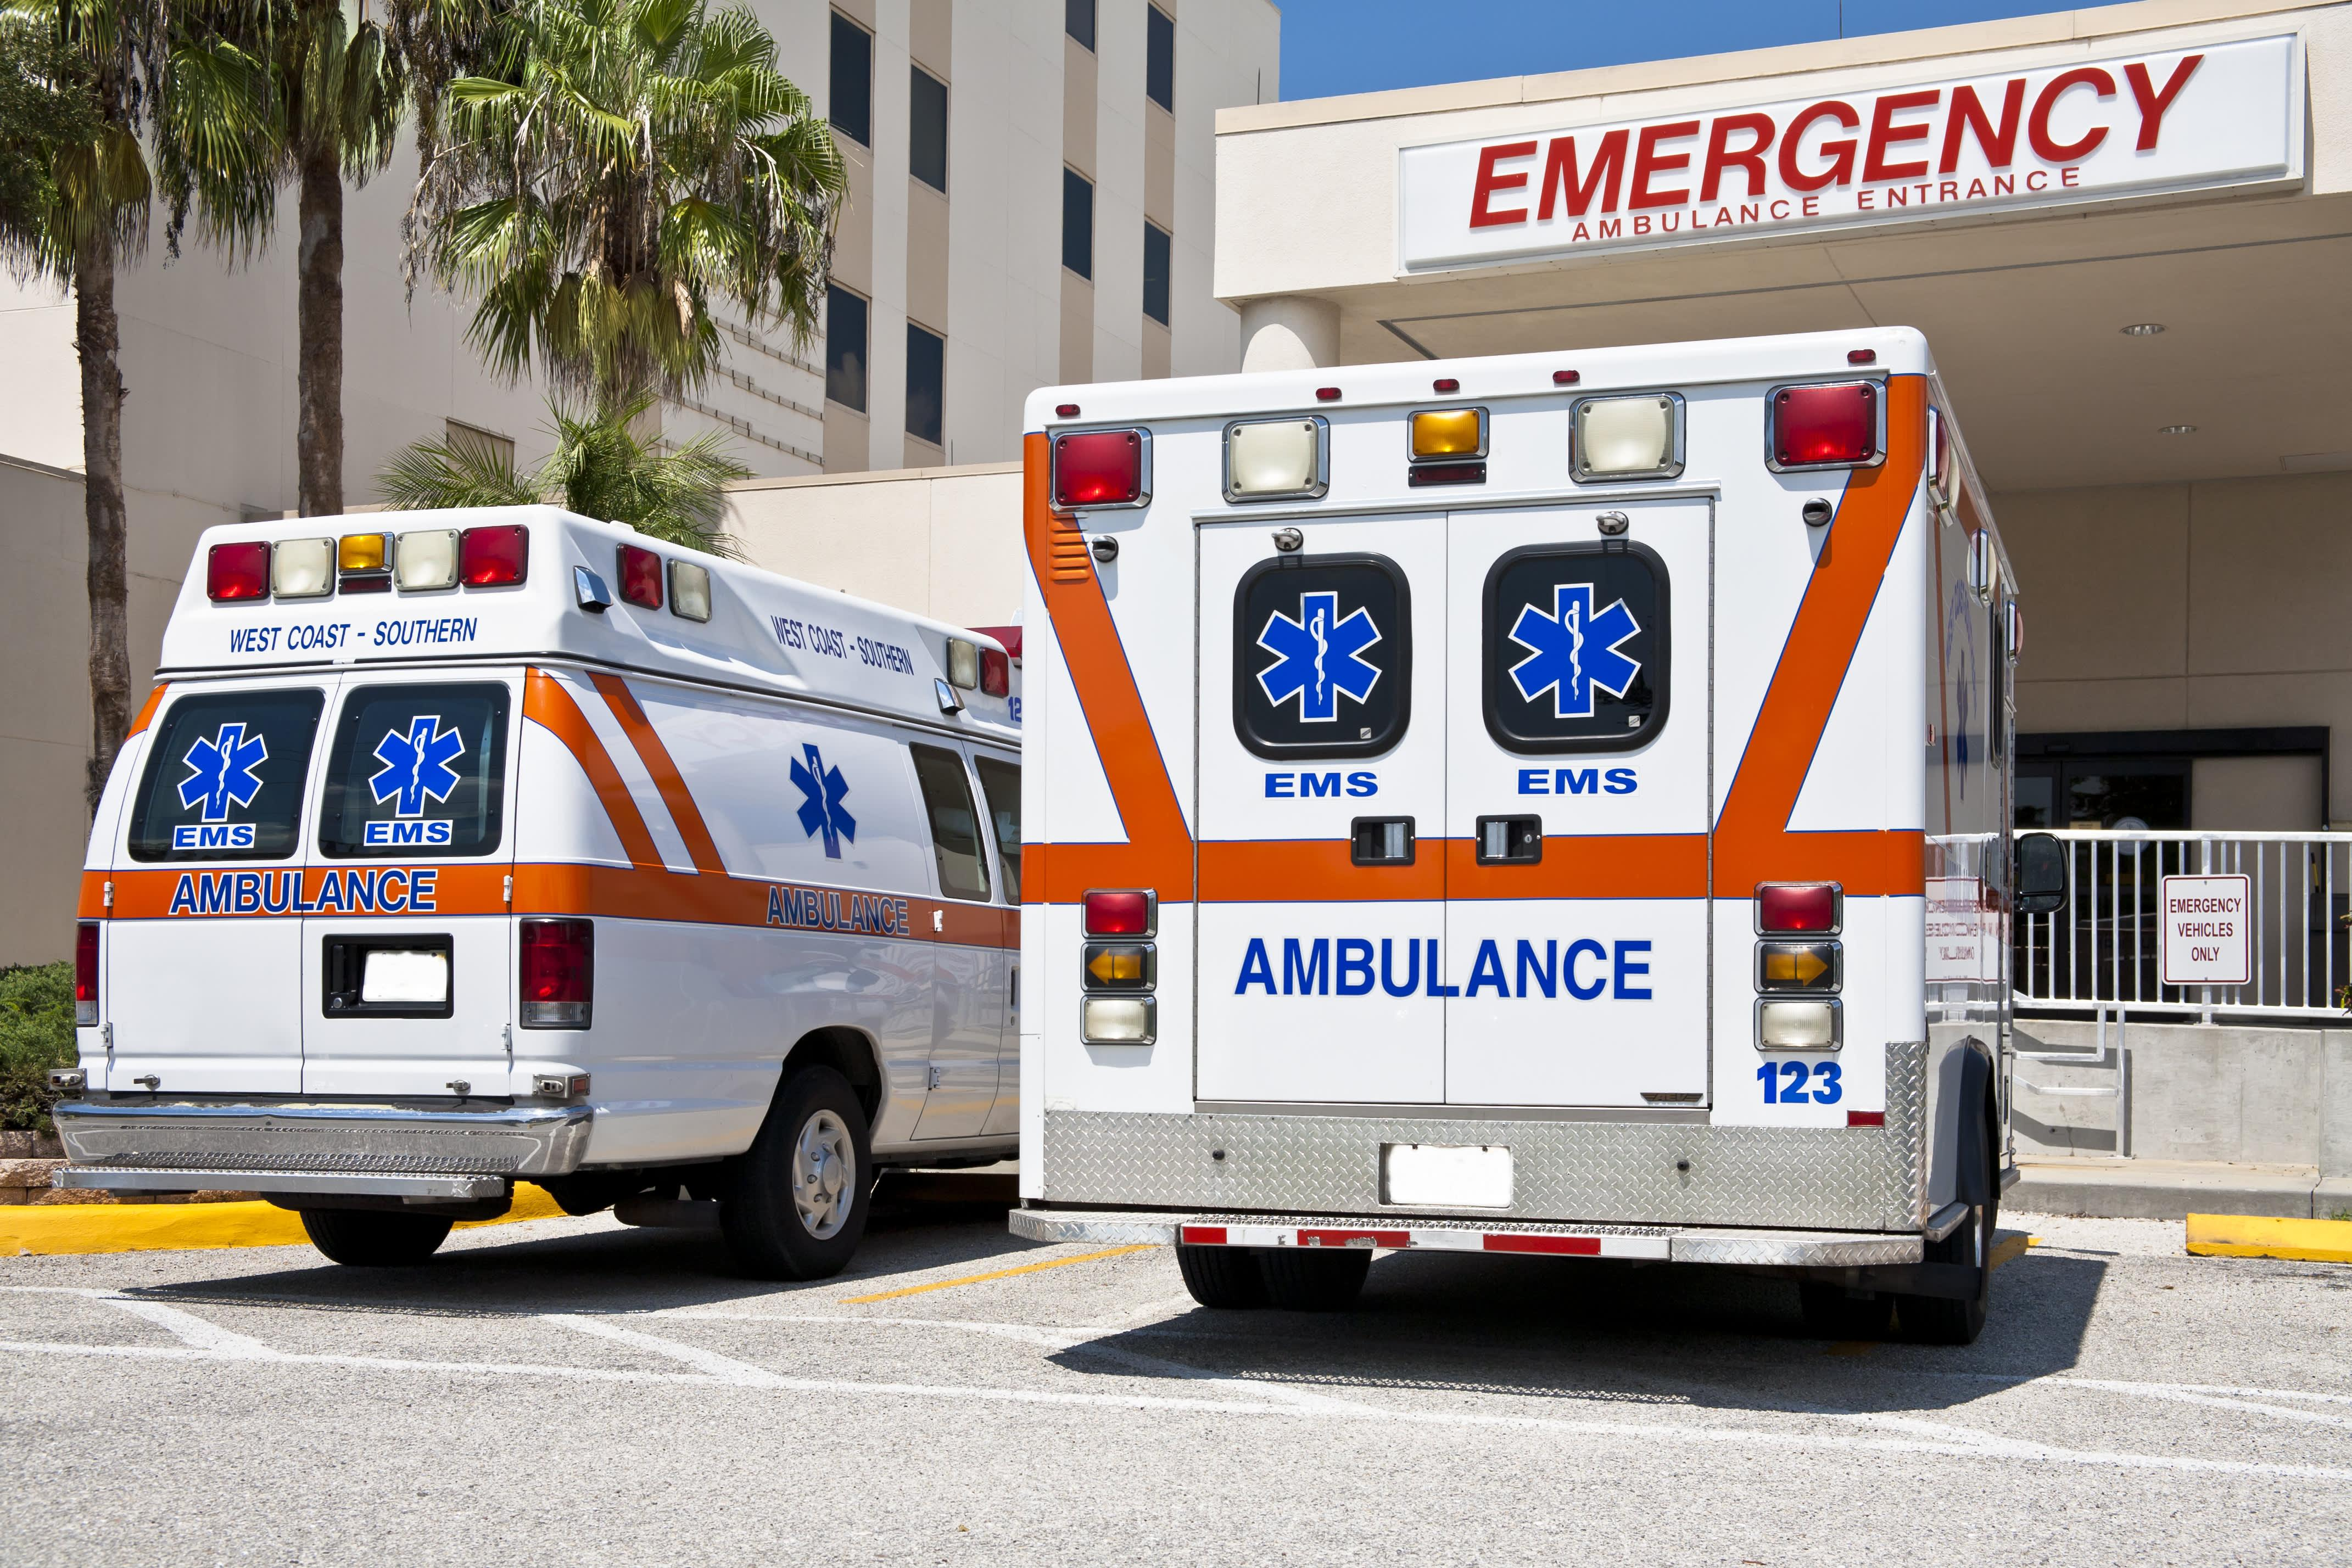ambulance_off: (1005, 320, 2039, 1330), (63, 497, 1038, 1274)
